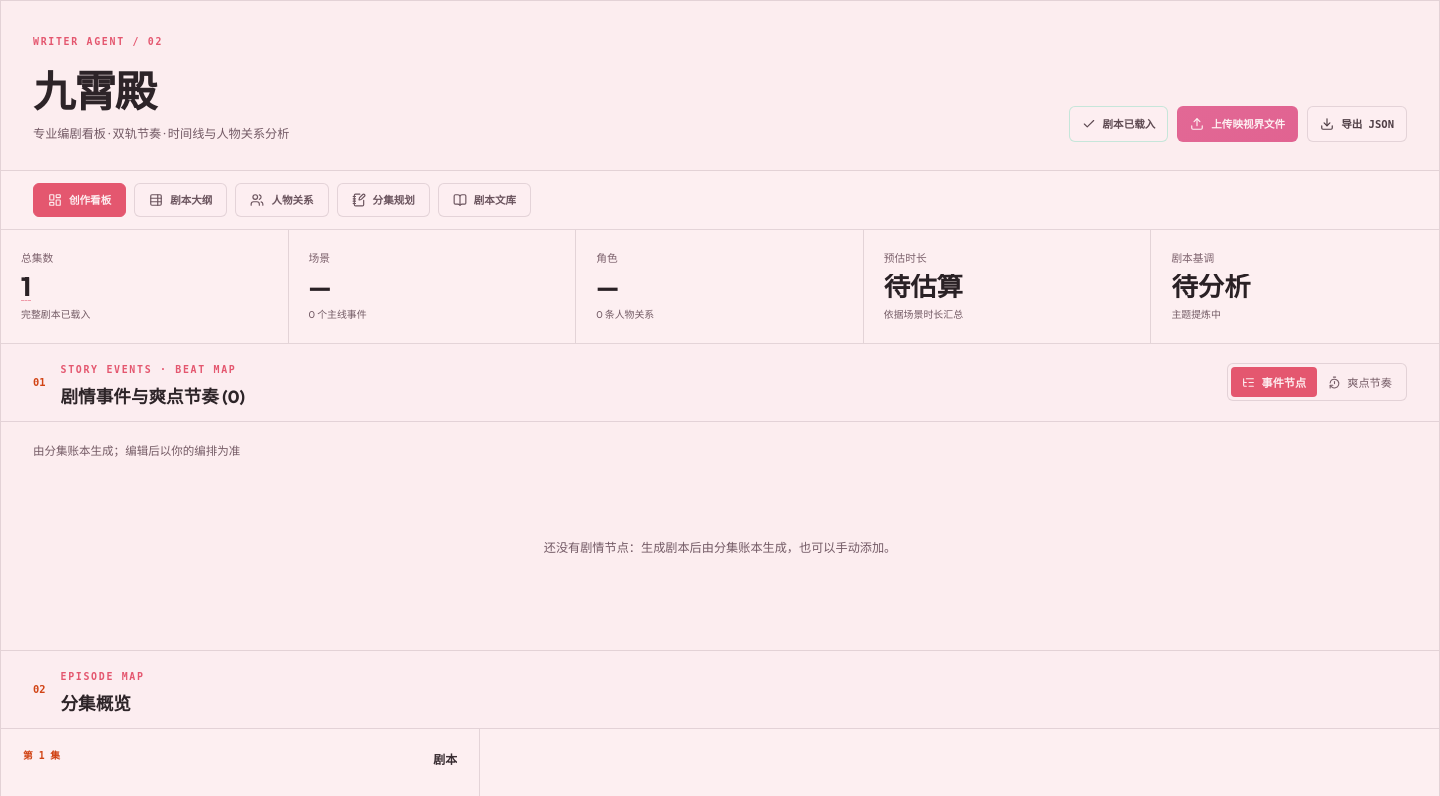
Test case: WriterAgentPage ledger links › opens the episode screenplay dialog when the ledger asks for an episode
This screenshot has width=1440, height=796.
Click the button "分集规划" at x=383, y=200, box [337, 183, 430, 217]
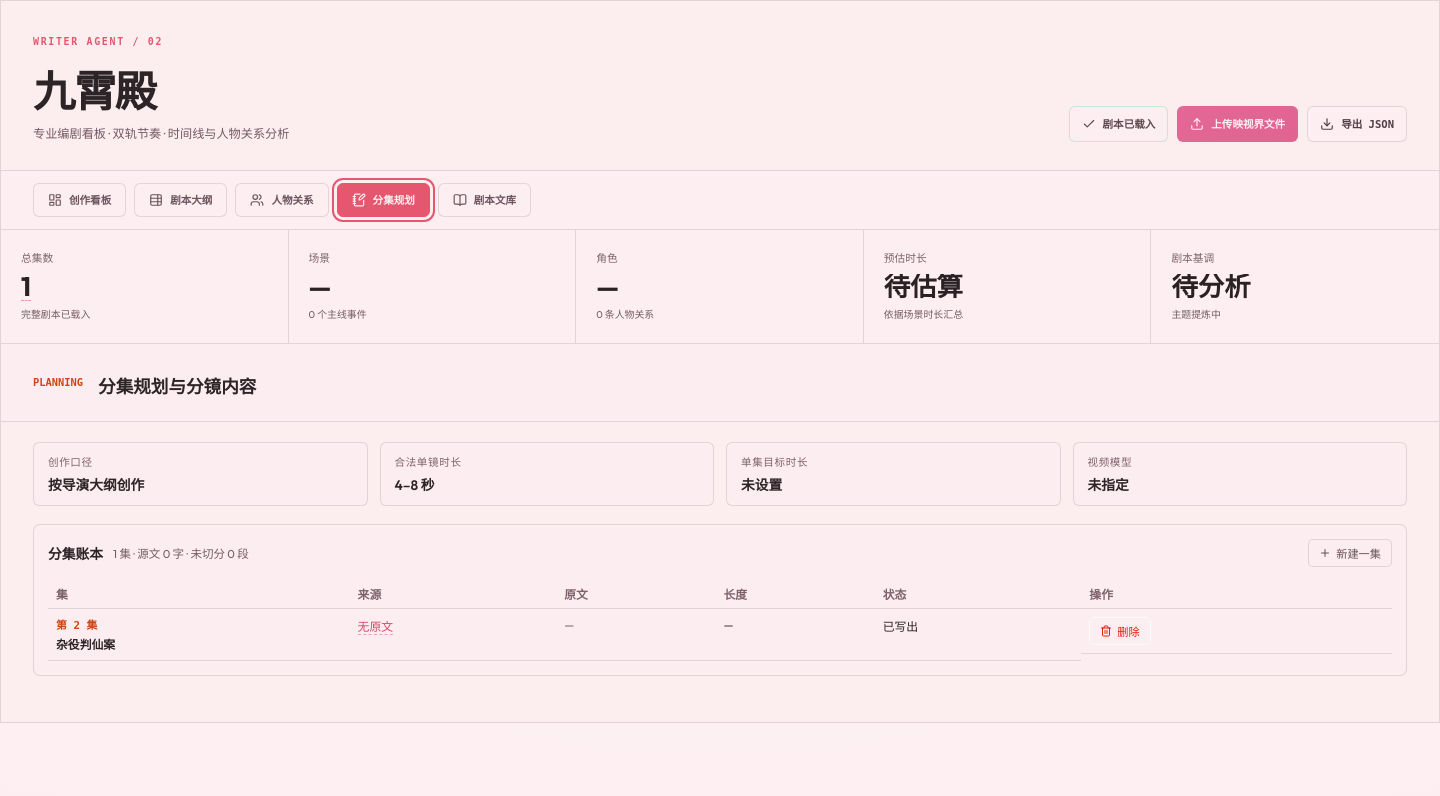
Click the button with aria-label "查看第 2 集完整剧本" at x=375, y=626, box [358, 617, 393, 635]
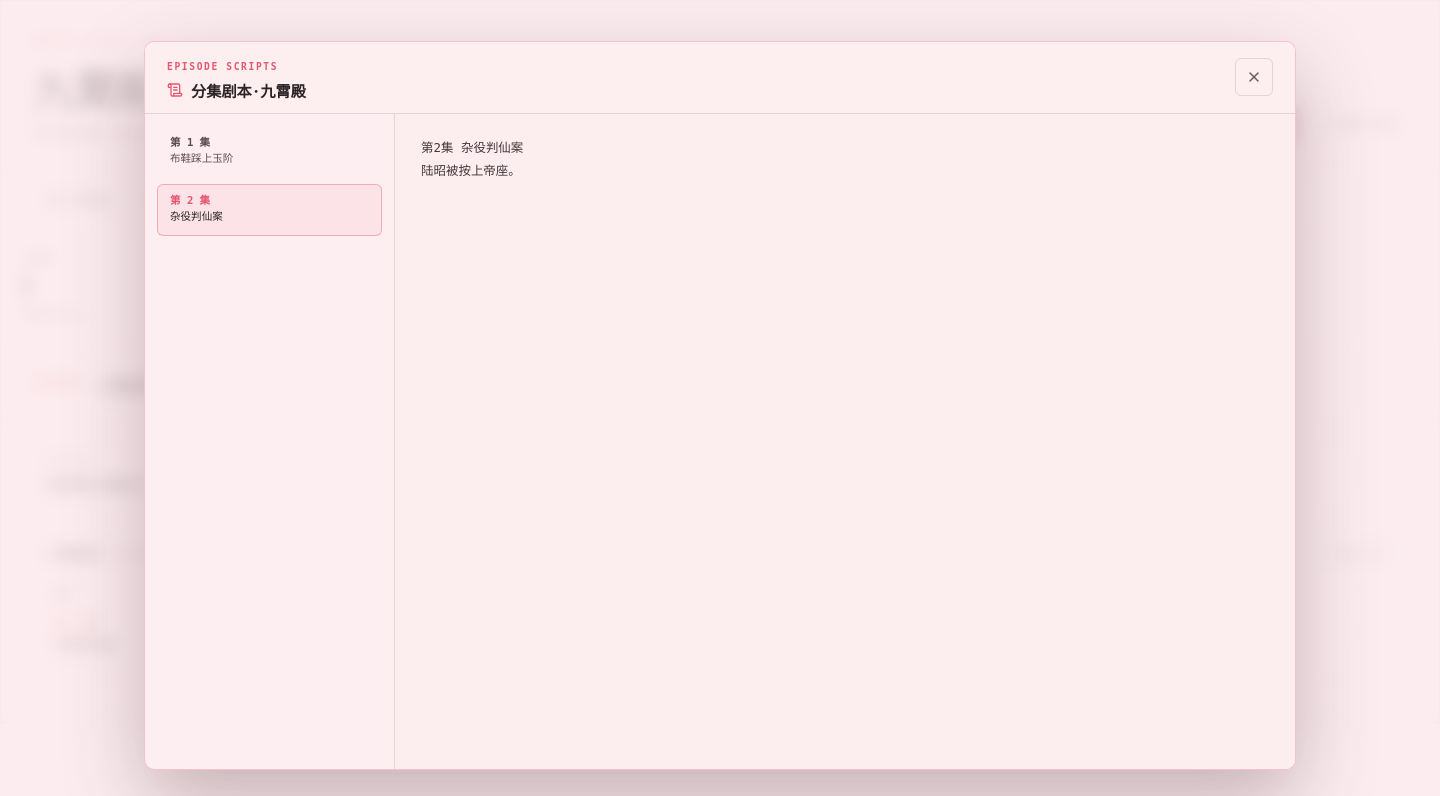
Now the dialog shows "陆昭被按上帝座。", box [421, 140, 523, 178]
